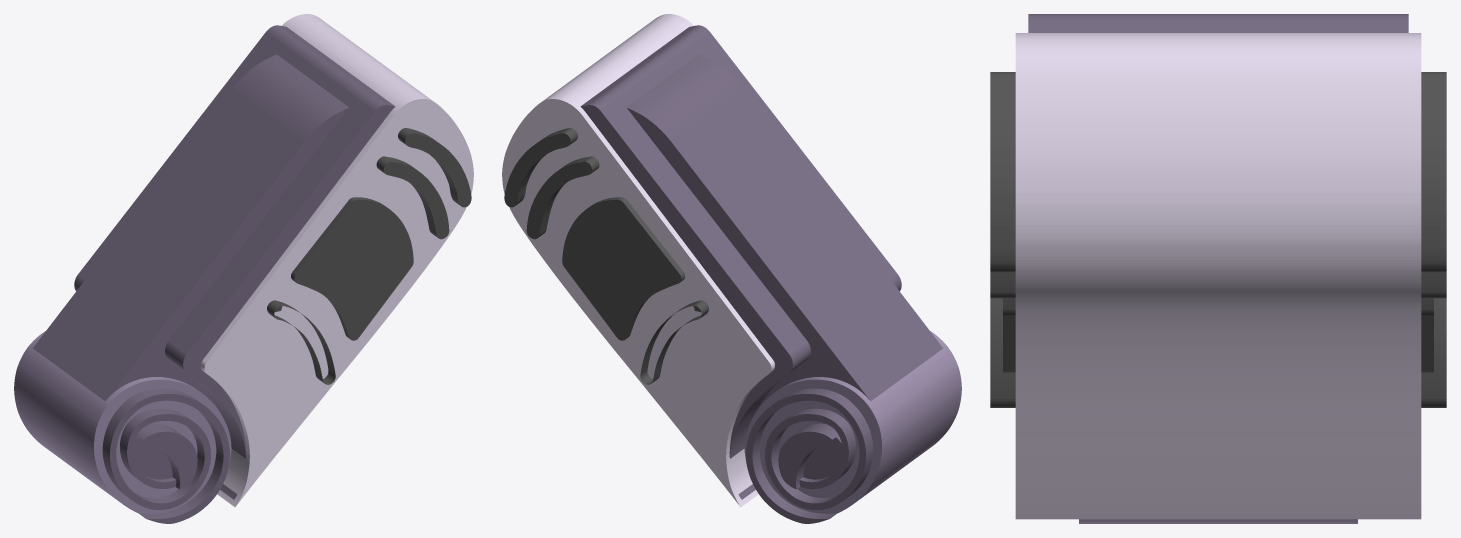
3 renders of one model, left to right at view 1: azimuth 30°, elevation 25°; view 2: azimuth 150°, elevation 25°; view 3: azimuth 270°, elevation 25°, orthographic. The views are drawn at different scales.
Parts seen in each view (by area): view 1: U+1F5DE_layer00_obj00, U+1F5DE_layer06_obj00, U+1F5DE_layer05_obj00, U+1F5DE_layer01_obj00, U+1F5DE_layer07_obj00, U+1F5DE_layer03_obj00, U+1F5DE_layer08_obj00, U+1F5DE_layer04_obj00, U+1F5DE_layer02_obj00; view 2: U+1F5DE_layer00_obj00, U+1F5DE_layer06_obj00, U+1F5DE_layer05_obj00, U+1F5DE_layer01_obj00, U+1F5DE_layer07_obj00, U+1F5DE_layer03_obj00, U+1F5DE_layer08_obj00, U+1F5DE_layer04_obj00, U+1F5DE_layer02_obj00; view 3: U+1F5DE_layer06_obj00, U+1F5DE_layer08_obj00, U+1F5DE_layer05_obj00, U+1F5DE_layer07_obj00, U+1F5DE_layer01_obj00.
Part boxes in pixels (bbox=[...]): U+1F5DE_layer00_obj00: bbox=[33, 54, 349, 409]; U+1F5DE_layer06_obj00: bbox=[201, 14, 473, 507]; U+1F5DE_layer05_obj00: bbox=[74, 25, 395, 499]; U+1F5DE_layer01_obj00: bbox=[14, 331, 231, 513]; U+1F5DE_layer07_obj00: bbox=[291, 197, 413, 340]; U+1F5DE_layer03_obj00: bbox=[102, 388, 229, 523]; U+1F5DE_layer08_obj00: bbox=[267, 128, 471, 384]; U+1F5DE_layer04_obj00: bbox=[137, 423, 197, 489]; U+1F5DE_layer02_obj00: bbox=[135, 440, 172, 479]; U+1F5DE_layer00_obj00: bbox=[626, 54, 942, 409]; U+1F5DE_layer06_obj00: bbox=[502, 14, 774, 507]; U+1F5DE_layer05_obj00: bbox=[580, 25, 901, 499]; U+1F5DE_layer01_obj00: bbox=[744, 331, 961, 513]; U+1F5DE_layer07_obj00: bbox=[562, 197, 684, 340]; U+1F5DE_layer03_obj00: bbox=[746, 388, 873, 523]; U+1F5DE_layer08_obj00: bbox=[504, 128, 708, 384]; U+1F5DE_layer04_obj00: bbox=[778, 423, 838, 489]; U+1F5DE_layer02_obj00: bbox=[803, 440, 840, 479]; U+1F5DE_layer06_obj00: bbox=[1015, 33, 1421, 519]; U+1F5DE_layer08_obj00: bbox=[990, 72, 1446, 407]; U+1F5DE_layer05_obj00: bbox=[1028, 14, 1408, 32]; U+1F5DE_layer07_obj00: bbox=[1003, 298, 1433, 372]; U+1F5DE_layer01_obj00: bbox=[1079, 519, 1357, 523].
Size of the model in its own units: 0.5757 by 0.5739 by 0.36.
